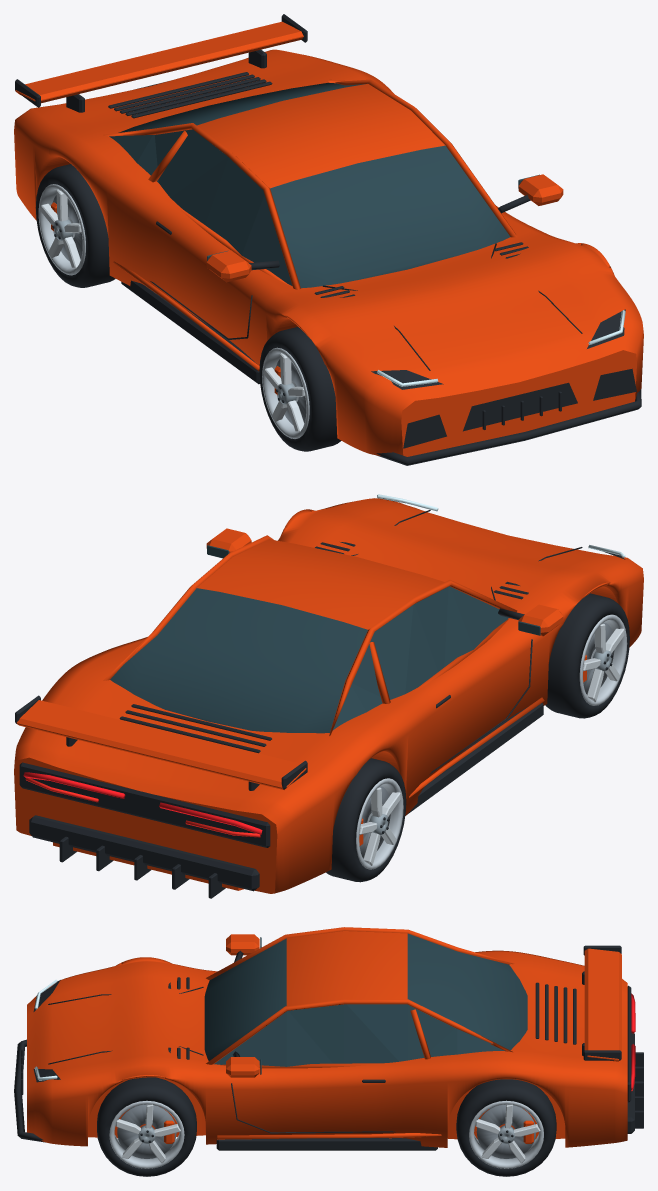
Rendered from cr_sport_01_v006.glb.
3 renders of one model, top to bottom at view 1: azimuth 30°, elevation 25°; view 2: azimuth 150°, elevation 25°; view 3: azimuth 270°, elevation 25°, orthographic. The views are drawn at different scales.
Parts seen in each view (by area): view 1: Body, Wheel_FR_Mesh, Wheel_RR_Mesh; view 2: Body, Wheel_FR_Mesh, Wheel_RR_Mesh; view 3: Body, Wheel_FL_Mesh, Wheel_RL_Mesh.
Boxes of the visible parts, x1,y1,x2,y2 form: Body: [14, 14, 643, 465]; Wheel_FR_Mesh: [259, 327, 341, 451]; Wheel_RR_Mesh: [35, 164, 115, 287]; Body: [14, 494, 643, 898]; Wheel_FR_Mesh: [545, 593, 629, 718]; Wheel_RR_Mesh: [326, 758, 406, 882]; Body: [14, 927, 643, 1150]; Wheel_FL_Mesh: [97, 1077, 196, 1176]; Wheel_RL_Mesh: [456, 1079, 556, 1176].
Bounding box in the file's own units: 2.25 × 1.22 × 4.47.
